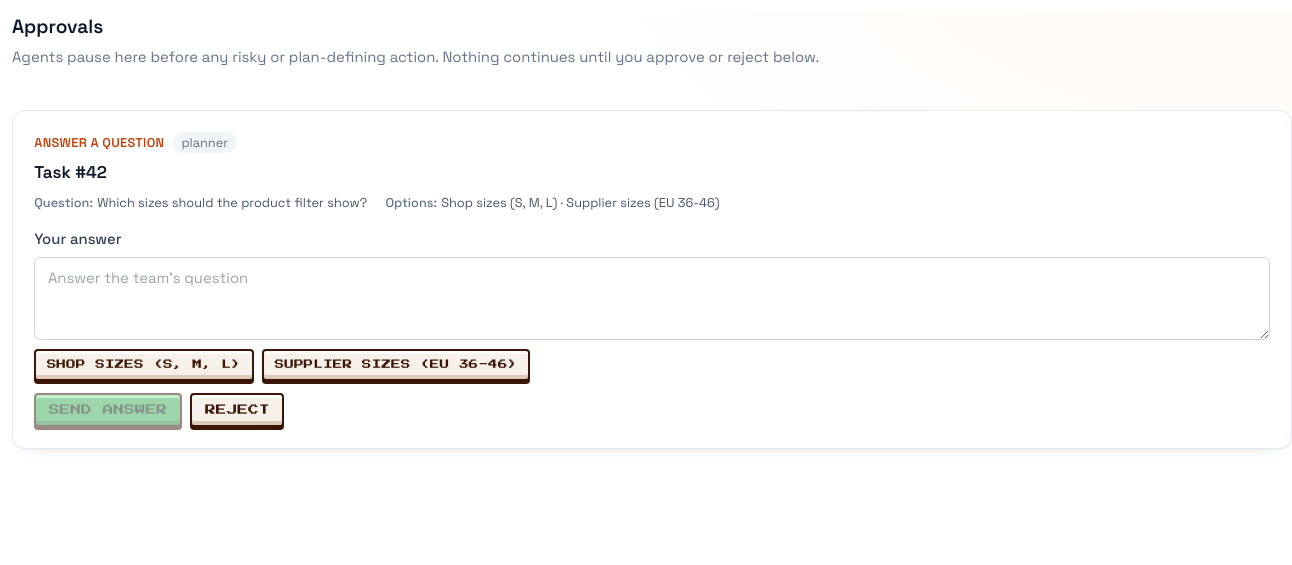
it: ApprovalsPanel question decisions › keeps the answer after a failed request and lets the user retry it
Type "Use supplier sizes." into the text box labelled "Your answer".
click(652, 299); type("Use supplier sizes.")  # box [34,257,1270,340]
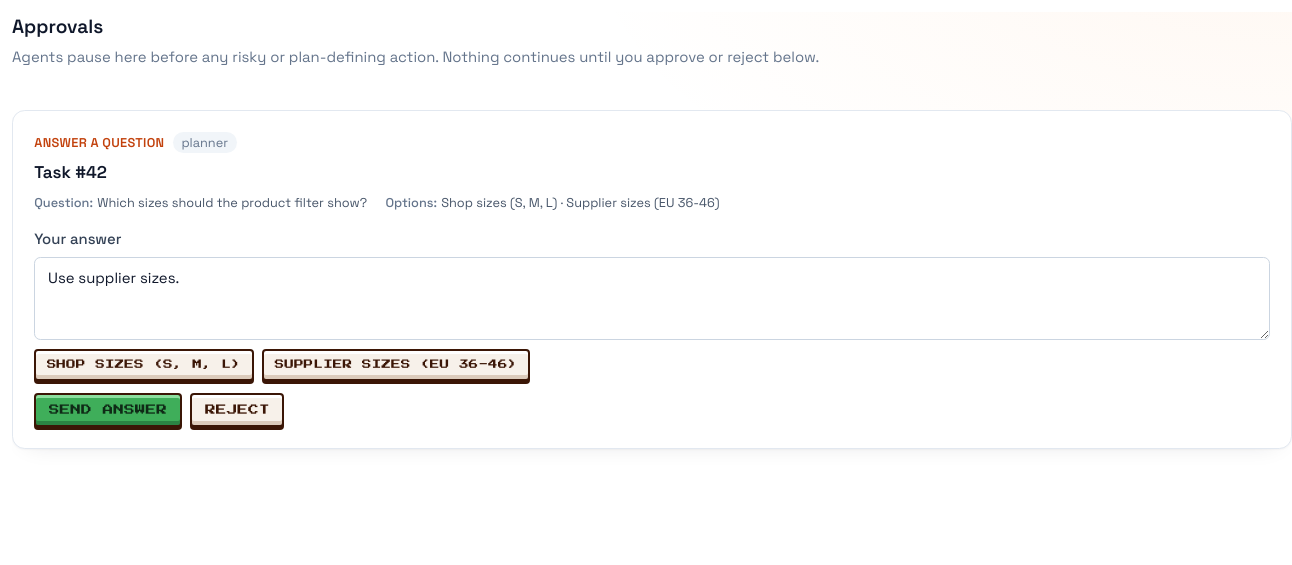
Click the button "Send answer".
click(108, 410)  # box [34,393,182,427]
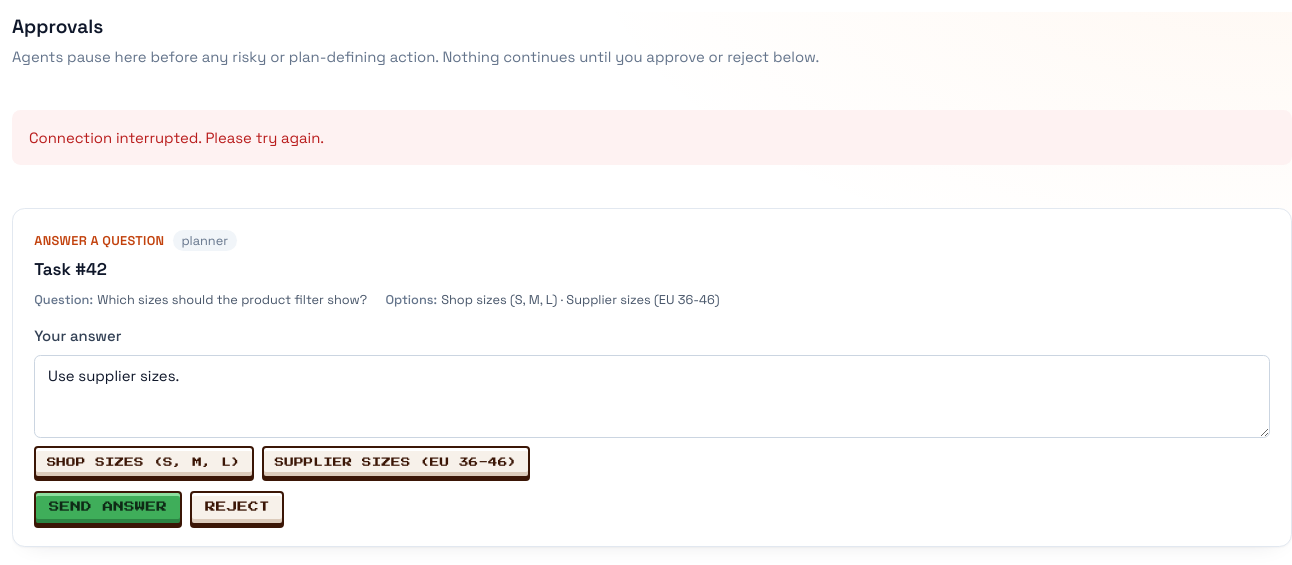
Check: the button "Send answer" is enabled
Check: the message reads "Connection interrupted. Please try again.", box [29,128,324,147]
Click the button "Send answer".
click(108, 508)  # box [34,491,182,525]
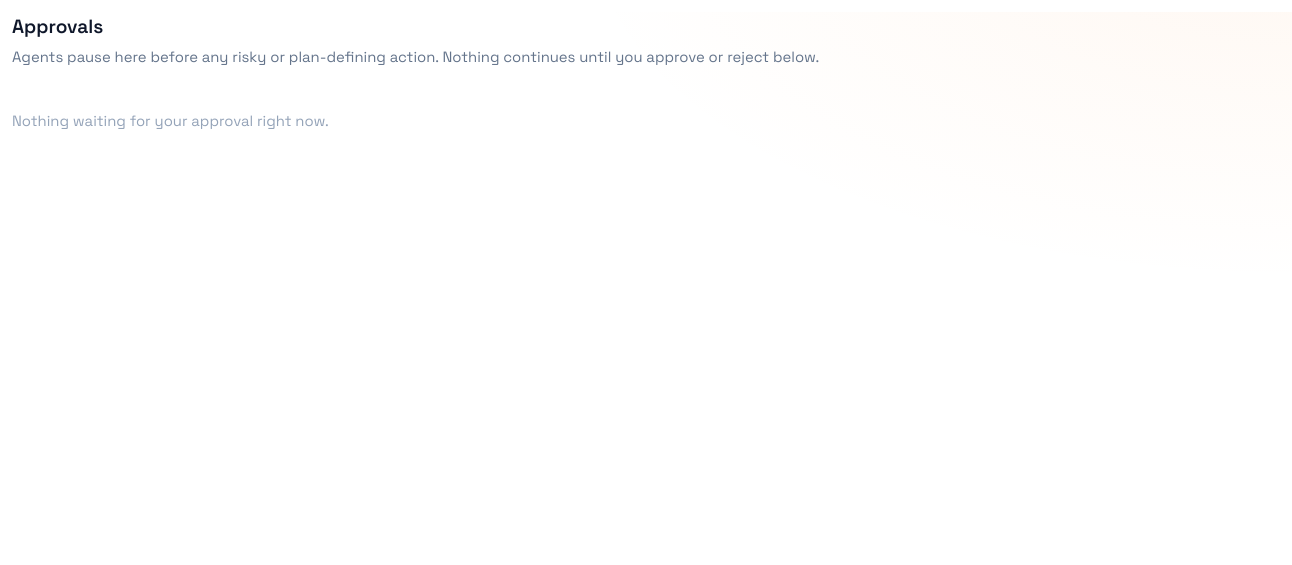
Check: the text "Nothing waiting for your approval right now." is shown, box [12,111,329,130]
Check: the message "Connection interrupted. Please try again." is gone
